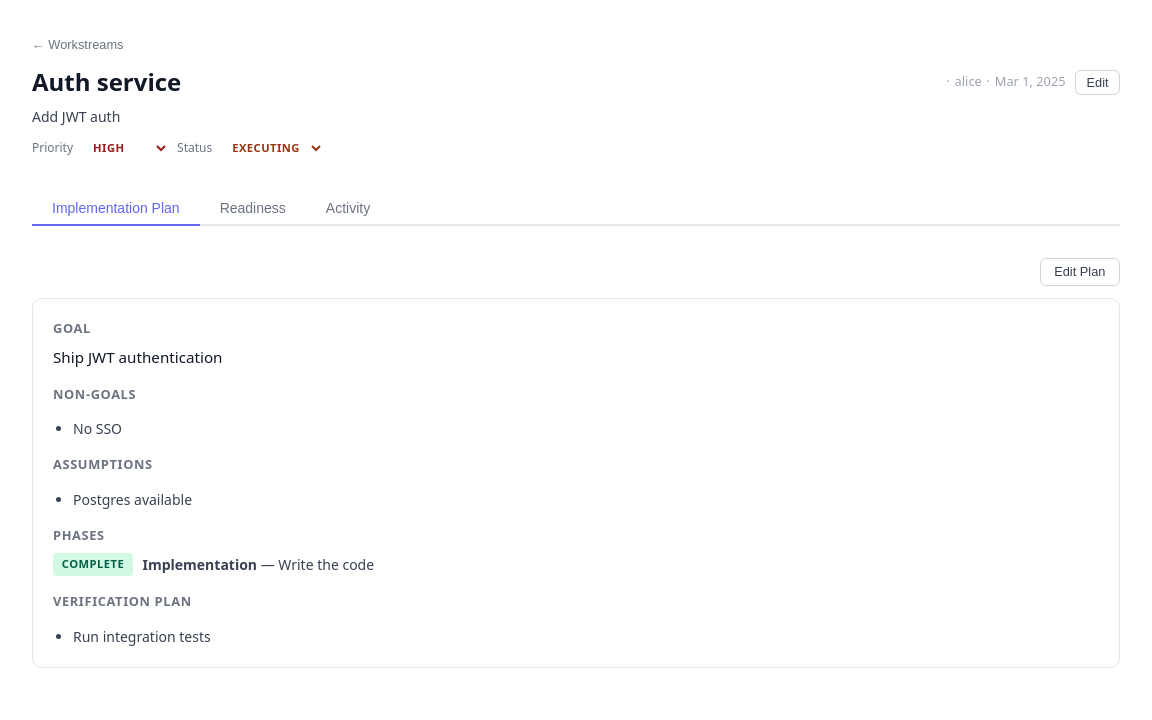
Test: WorkstreamDetailView › switches to the Readiness tab on click
Click the button with class "tab-btn" showing "Readiness" at coordinates (253, 209), box x1=200 y1=192 x2=306 y2=226
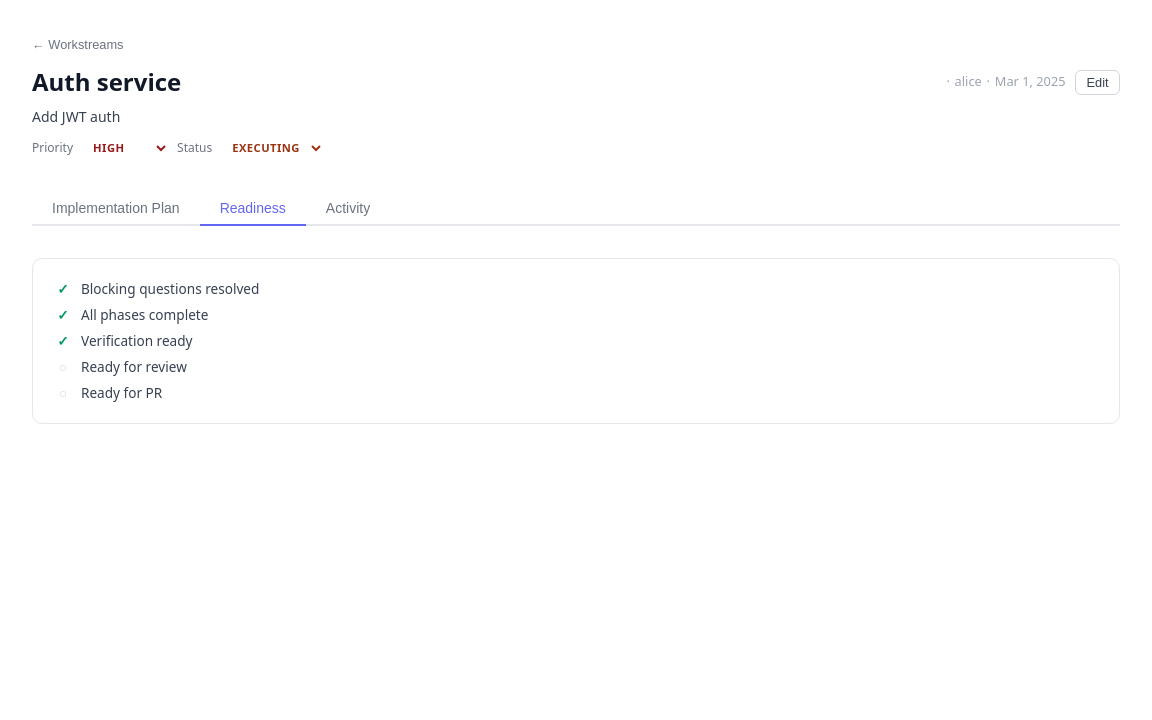
Check: the text "All phases complete" is shown, box x1=81 y1=304 x2=208 y2=324
Check: the text "Blocking questions resolved" is shown, box x1=81 y1=279 x2=259 y2=298
